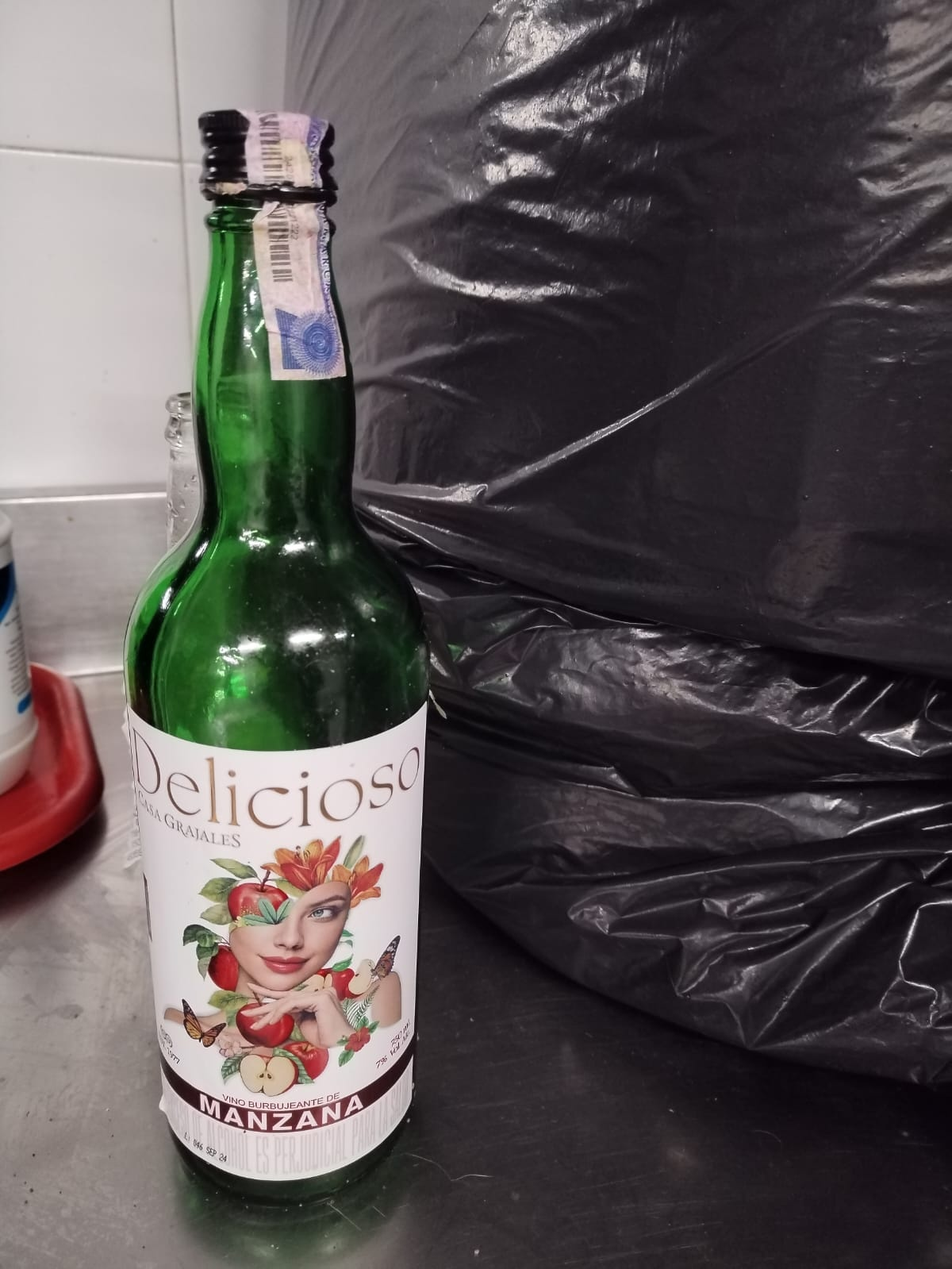Vidrio: (122, 112, 437, 1202)
